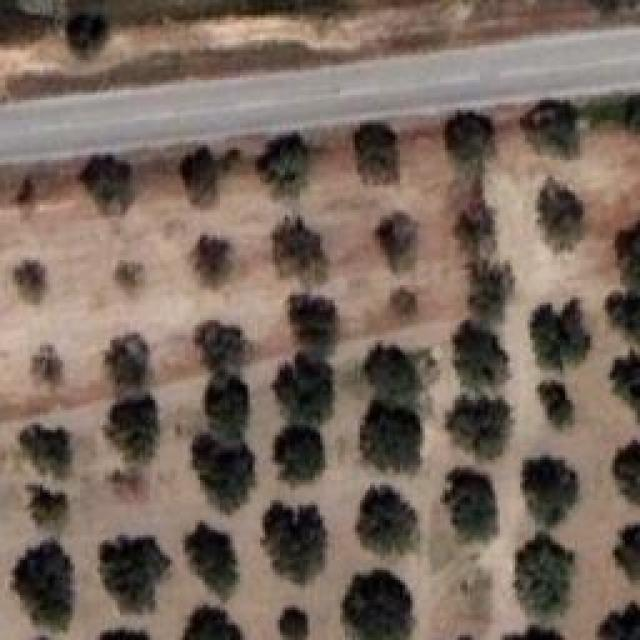Tree: (13, 540, 74, 630), (100, 535, 171, 612), (263, 503, 324, 585), (515, 533, 575, 616), (193, 435, 254, 513), (343, 570, 408, 640), (273, 353, 334, 425), (530, 298, 590, 368), (360, 400, 419, 471), (185, 523, 238, 600), (448, 395, 511, 458), (443, 468, 498, 540), (453, 320, 509, 390), (273, 218, 329, 286), (105, 393, 161, 460), (523, 460, 579, 527), (360, 488, 416, 554), (183, 145, 240, 207), (538, 177, 584, 252), (258, 134, 311, 198), (80, 154, 134, 216), (360, 343, 417, 400), (275, 425, 326, 485), (455, 187, 498, 257), (203, 375, 249, 439), (290, 295, 337, 357), (195, 320, 246, 375), (355, 123, 400, 184), (470, 262, 514, 322), (375, 213, 418, 274), (23, 427, 72, 477), (445, 113, 494, 161), (105, 330, 146, 387), (193, 235, 233, 290), (183, 605, 243, 640), (610, 350, 640, 417), (520, 100, 578, 132), (612, 440, 640, 502), (68, 13, 108, 56), (28, 485, 68, 527), (615, 220, 640, 287), (597, 602, 640, 639), (610, 288, 640, 341), (13, 260, 47, 306), (538, 384, 573, 428), (30, 345, 64, 390), (615, 525, 640, 580), (115, 260, 145, 291), (505, 625, 566, 640), (285, 610, 308, 640), (100, 628, 151, 640)
